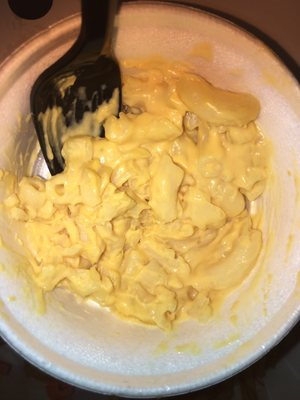salad: (29, 0, 127, 176)
